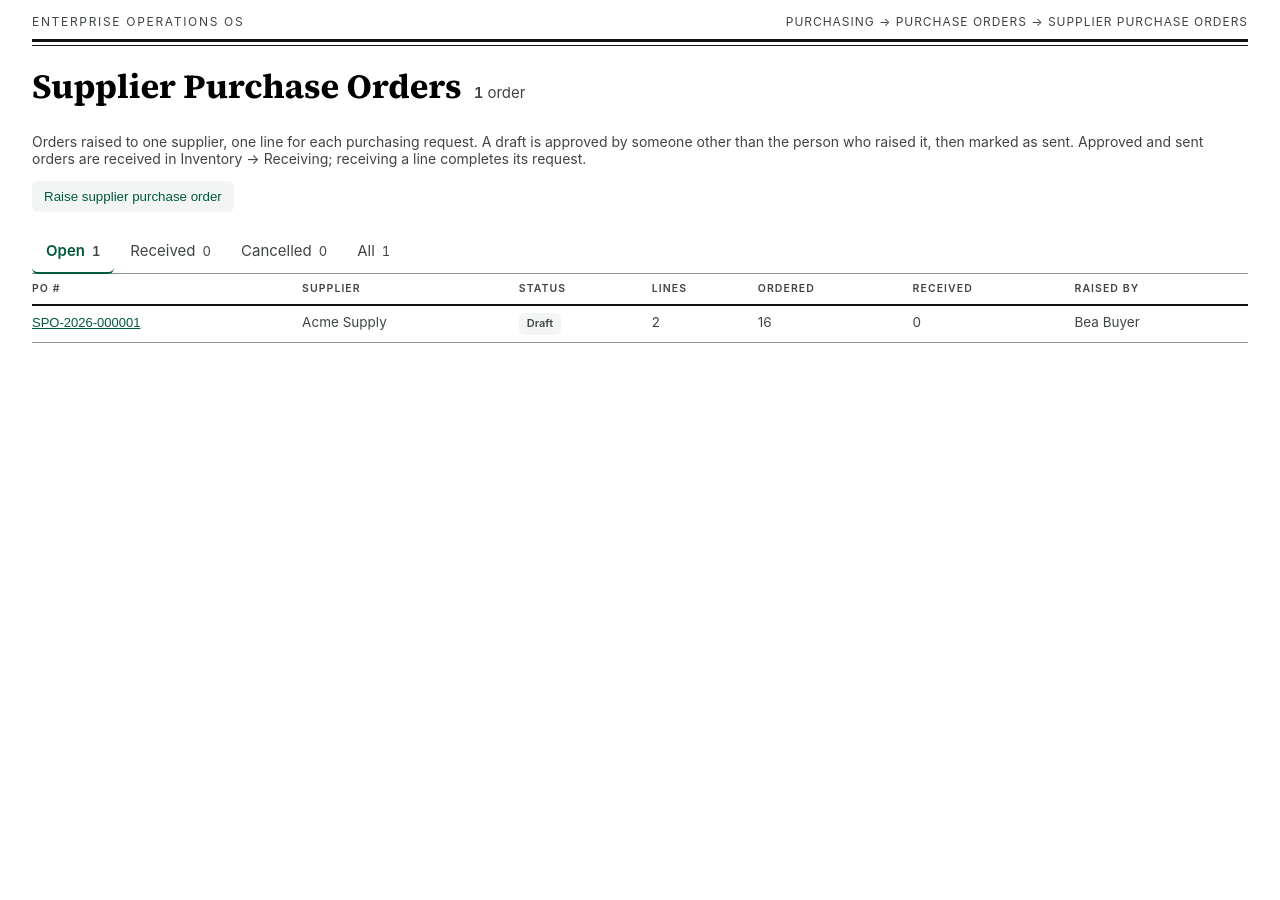
Test case: raising an order › submits the supplier, the warehouse, whole-unit quantities and a price in minor units, with one key; then selects the new order
Click the button "Raise supplier purchase order" at (133, 196), box x1=32 y1=181 x2=234 y2=212
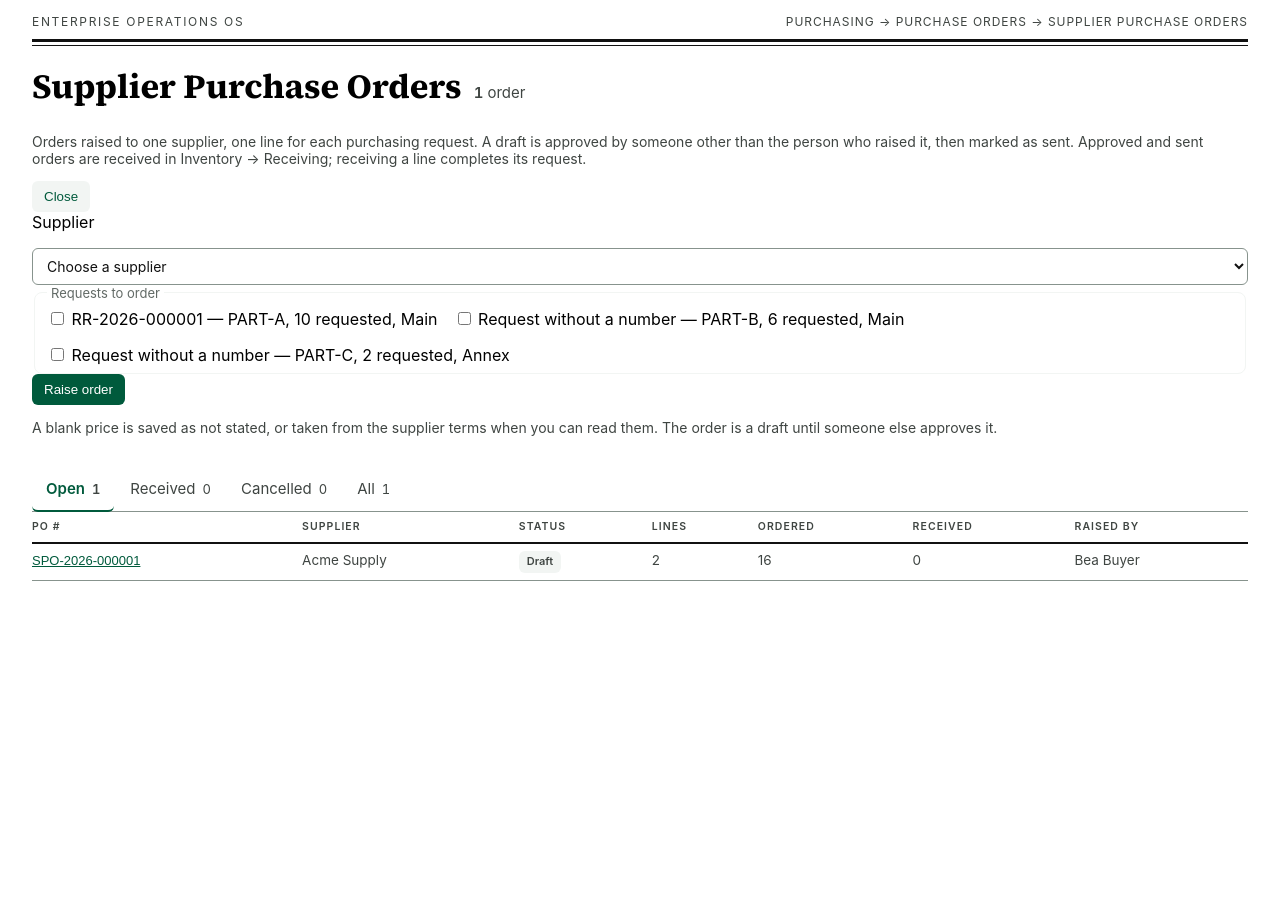
Select "Acme Supply" in the dropdown labelled "Supplier" at (640, 266), box x1=32 y1=248 x2=1248 y2=285
Click the checkbox labelled "RR-2026-000001 — PART-A, 10 requested, Main" at (58, 318), box x1=51 y1=312 x2=64 y2=325
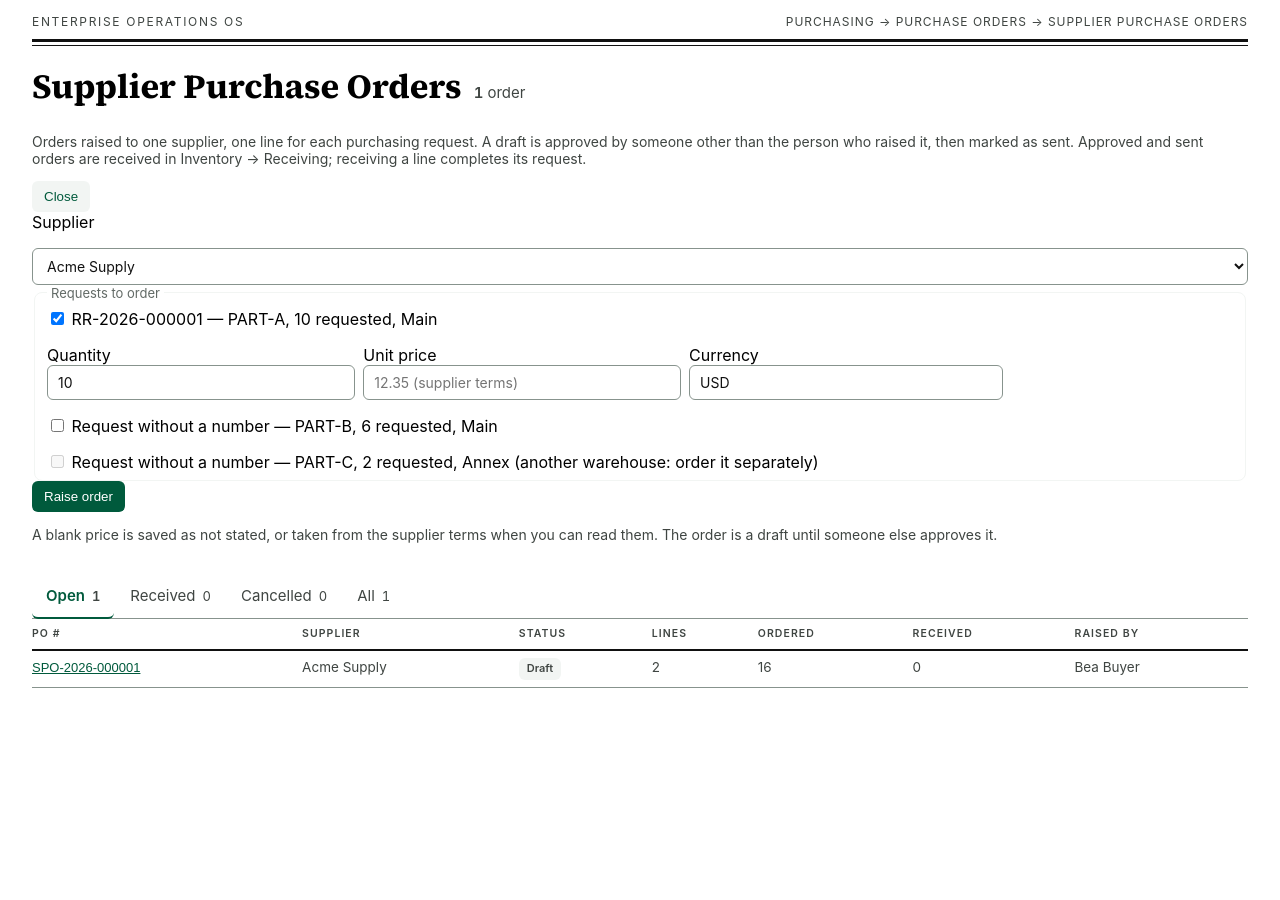
Click the checkbox labelled "Request without a number — PART-B, 6 requested, Main" at (58, 425), box x1=51 y1=419 x2=64 y2=432
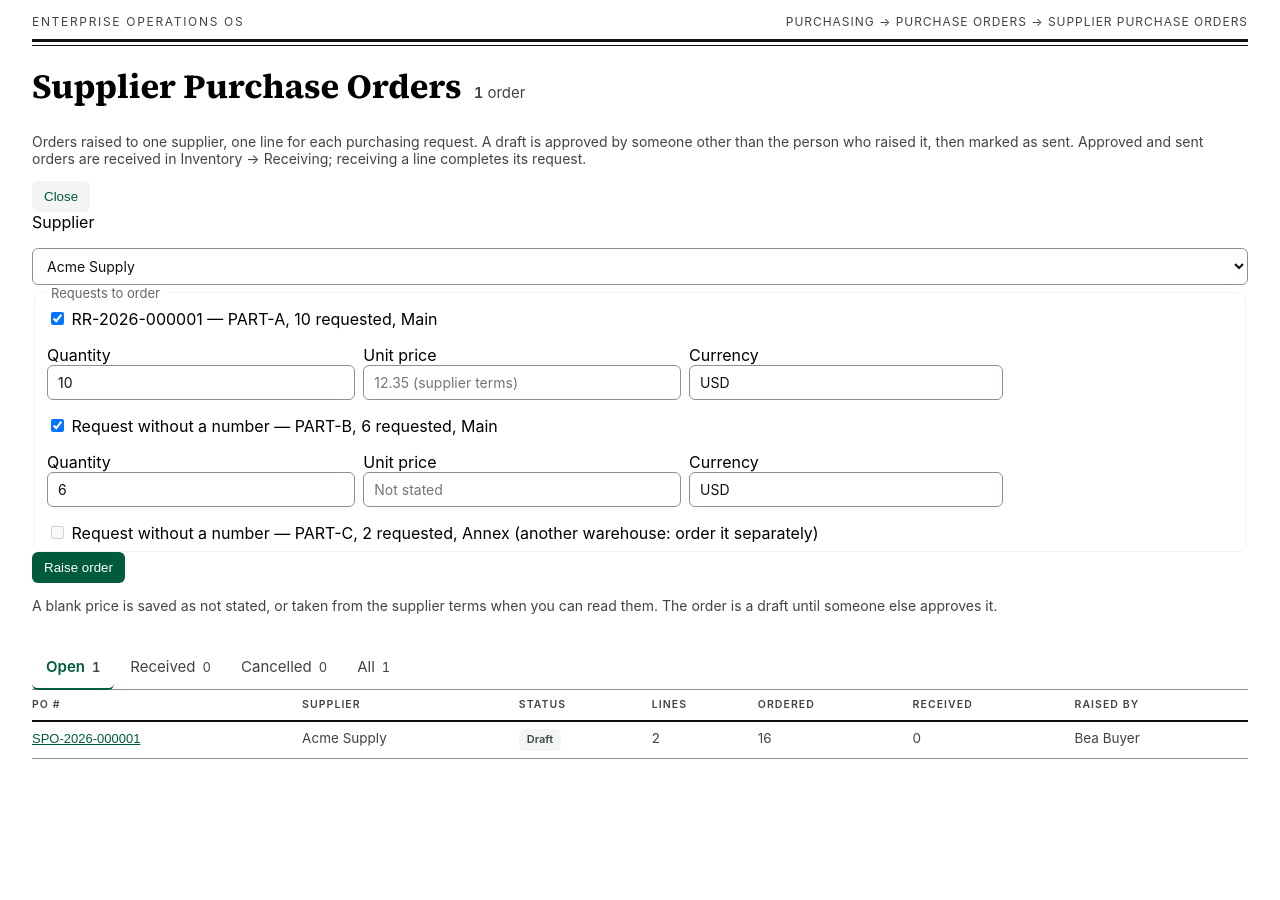
Replace the text in the field named "Quantity for PART-B" with "5" at (201, 489), box x1=47 y1=472 x2=355 y2=507
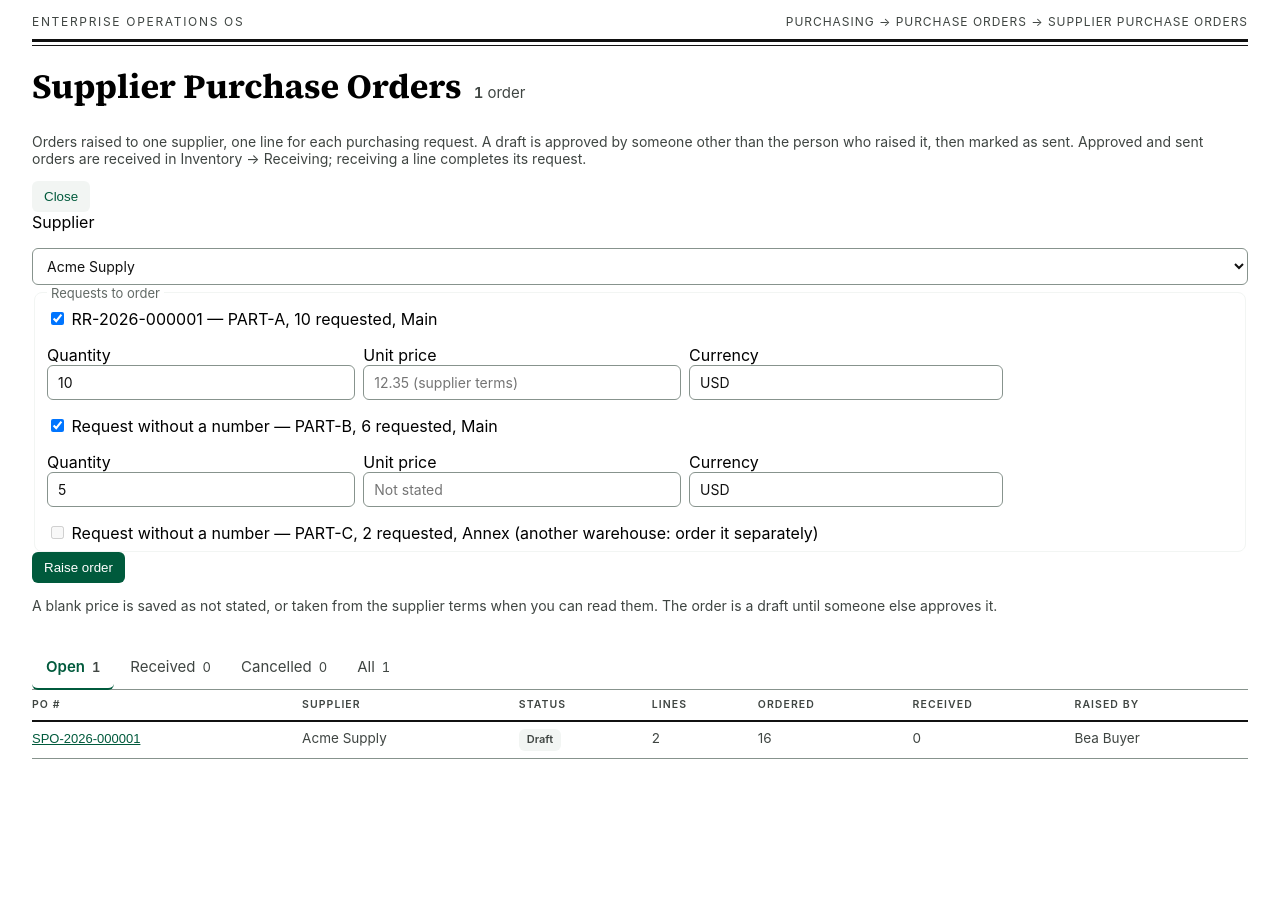
Type "25.5" into the field named "Unit price for PART-B" at (522, 489), box x1=363 y1=472 x2=681 y2=507
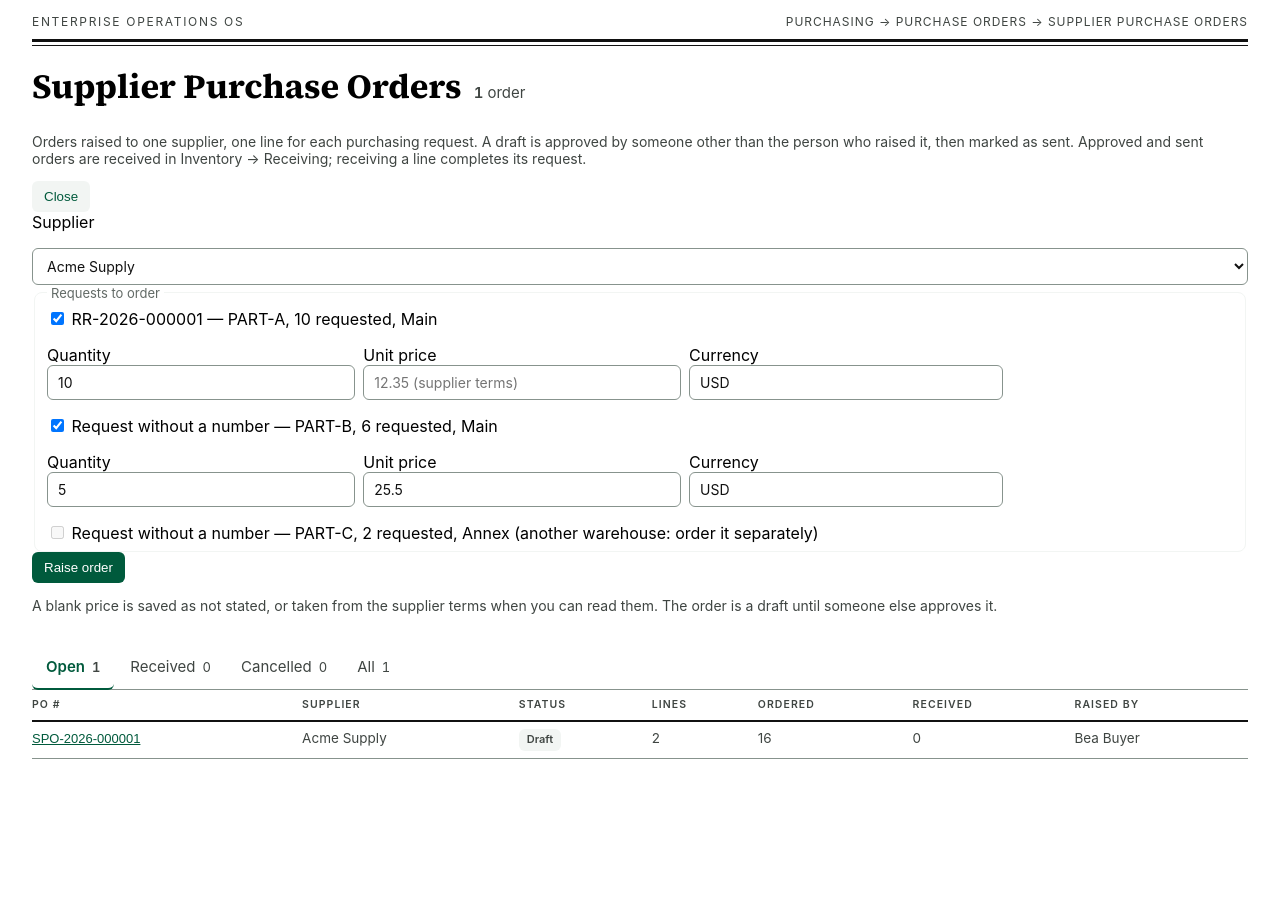
Click the button "Raise order" at (78, 567), box x1=32 y1=552 x2=125 y2=583
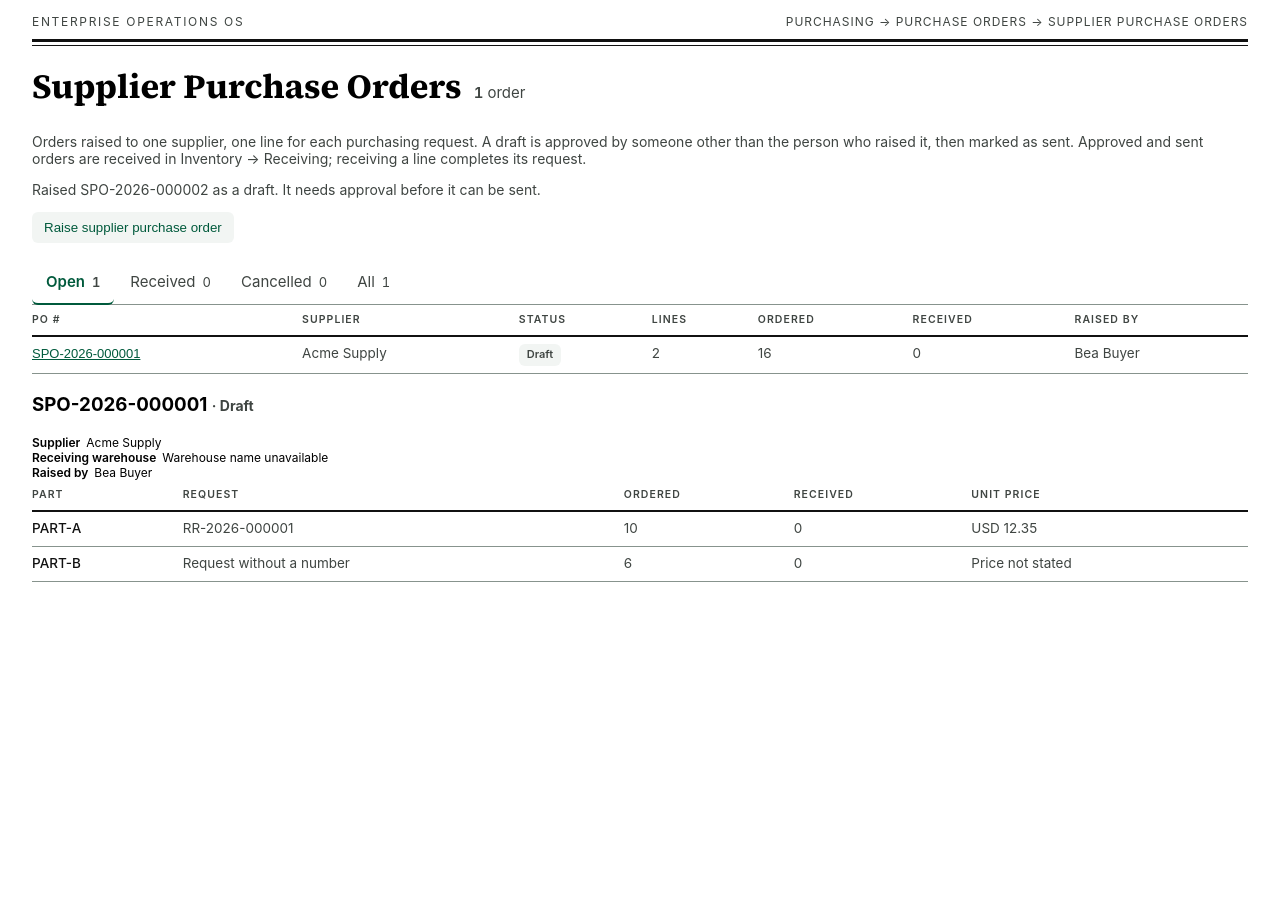
Expected: the text "Raised SPO-2026-000002 as a draft. It needs approval before it can be sent." is shown, x1=32 y1=181 x2=541 y2=198
